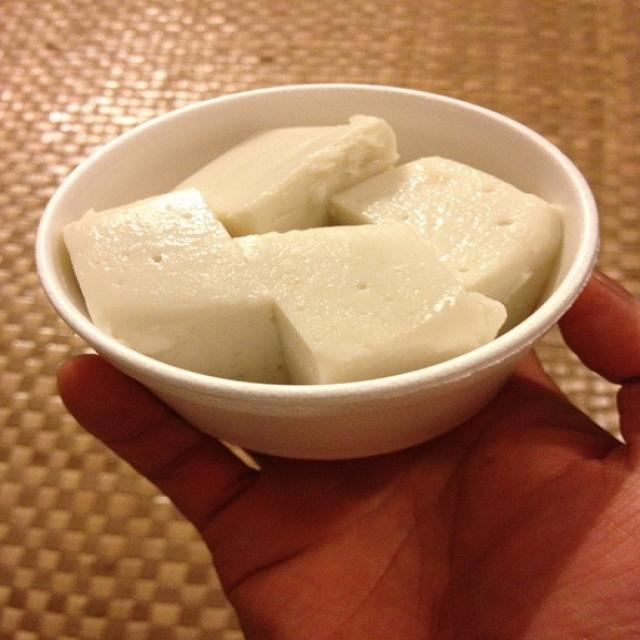蛋糕甜品: (41, 24, 620, 544)
